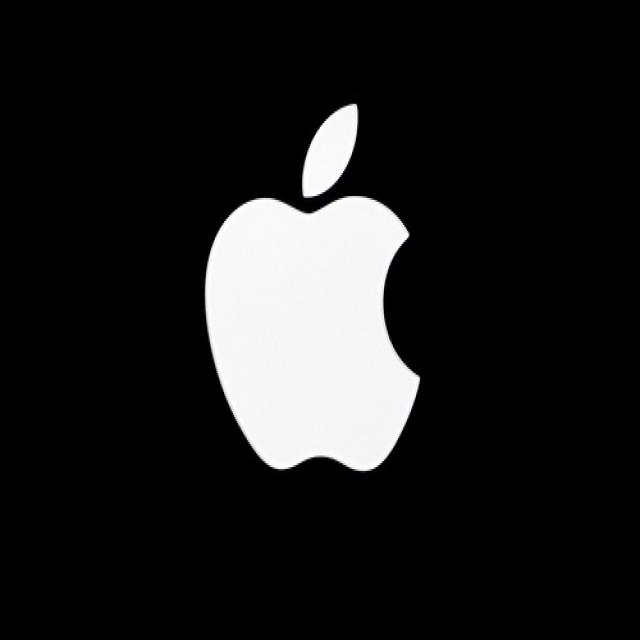apple: (192, 91, 431, 491)
